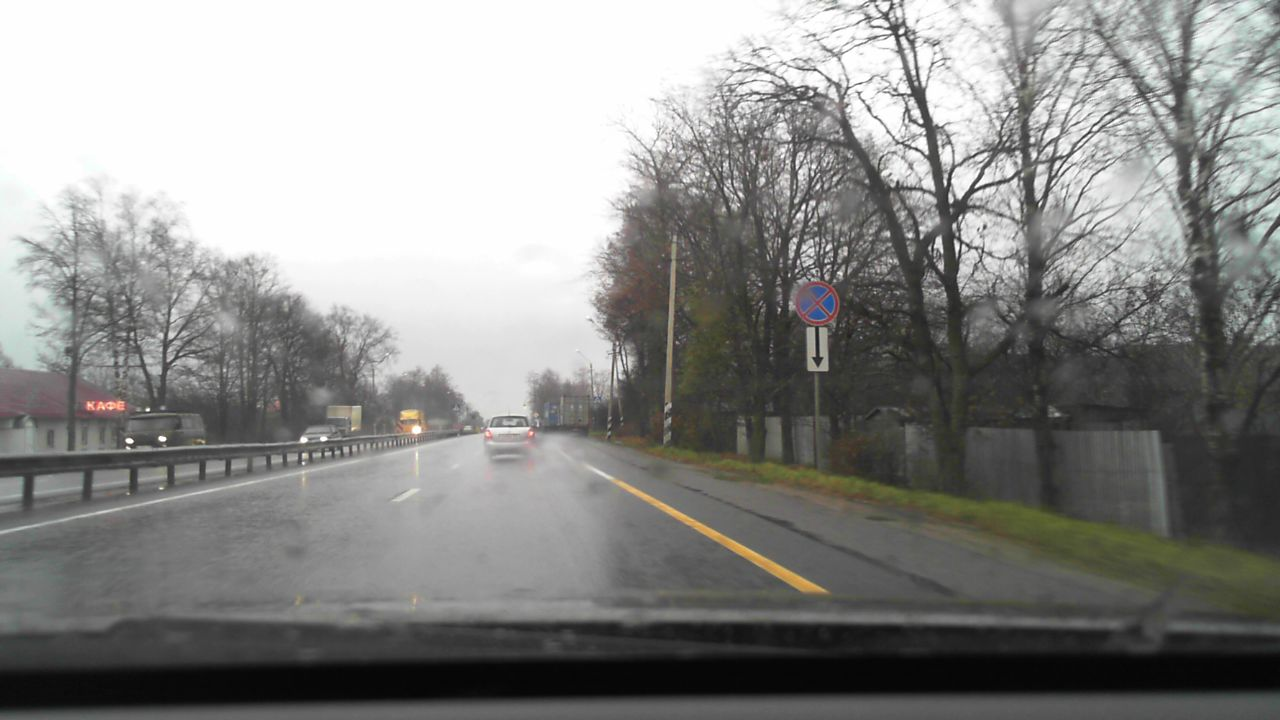No Parking: (794, 280, 839, 326)
